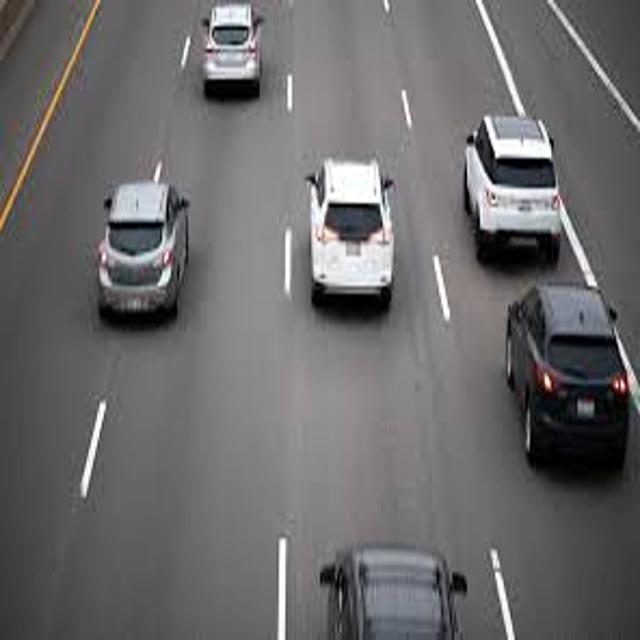car: (506, 283, 628, 464), (320, 543, 467, 640), (464, 116, 561, 262), (306, 158, 395, 308), (96, 183, 190, 321), (202, 6, 263, 98)
